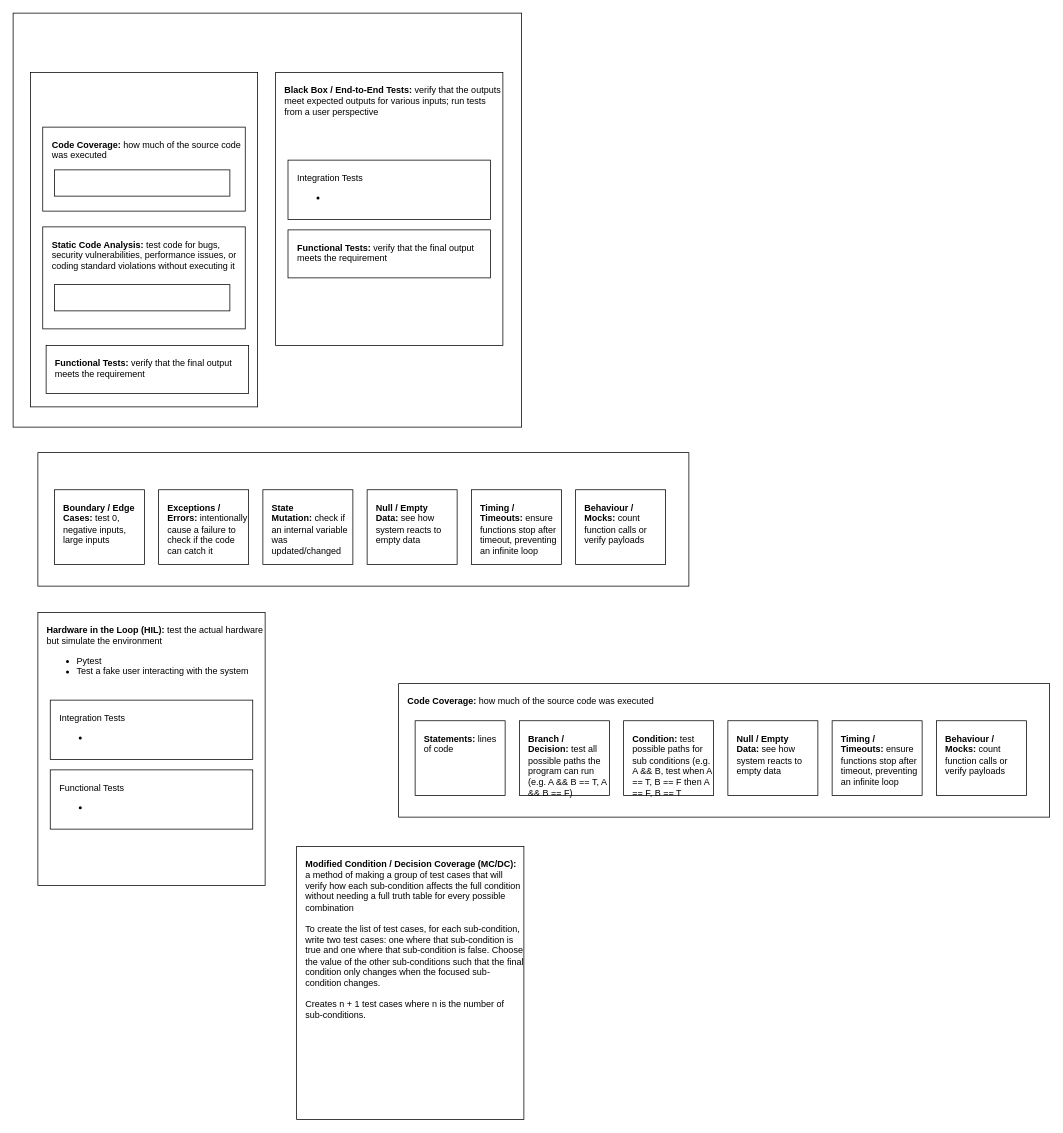
Image size: 1063x1133. Some labels were removed from this diagram. Each missing label, with the box of its shape:
Do static code analysis using unit tests: (54, 284, 230, 311)
Regression Tests: Run all below tests after adding a new feature: (12, 12, 522, 427)
Test code coverage using unit tests: (54, 169, 230, 196)
Unit Tests: test a function in isolation: (37, 452, 689, 586)
White Box Tests: verify that the internal logic meets the specifications: (30, 72, 258, 407)
